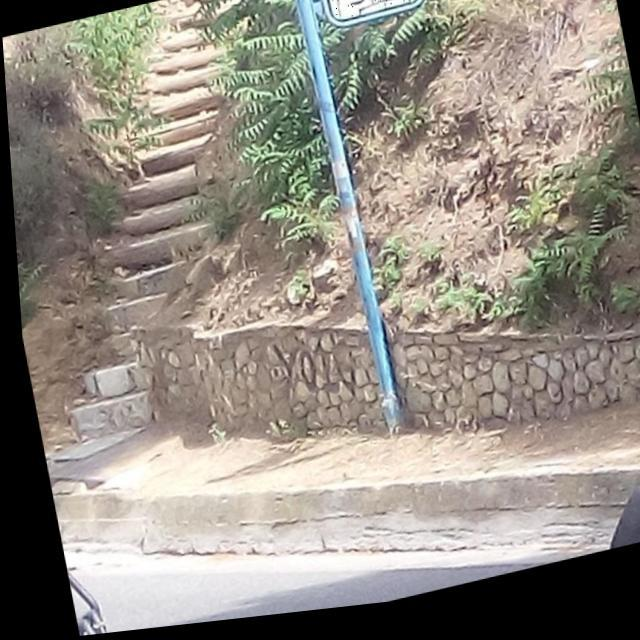-: (327, 0, 418, 28)
